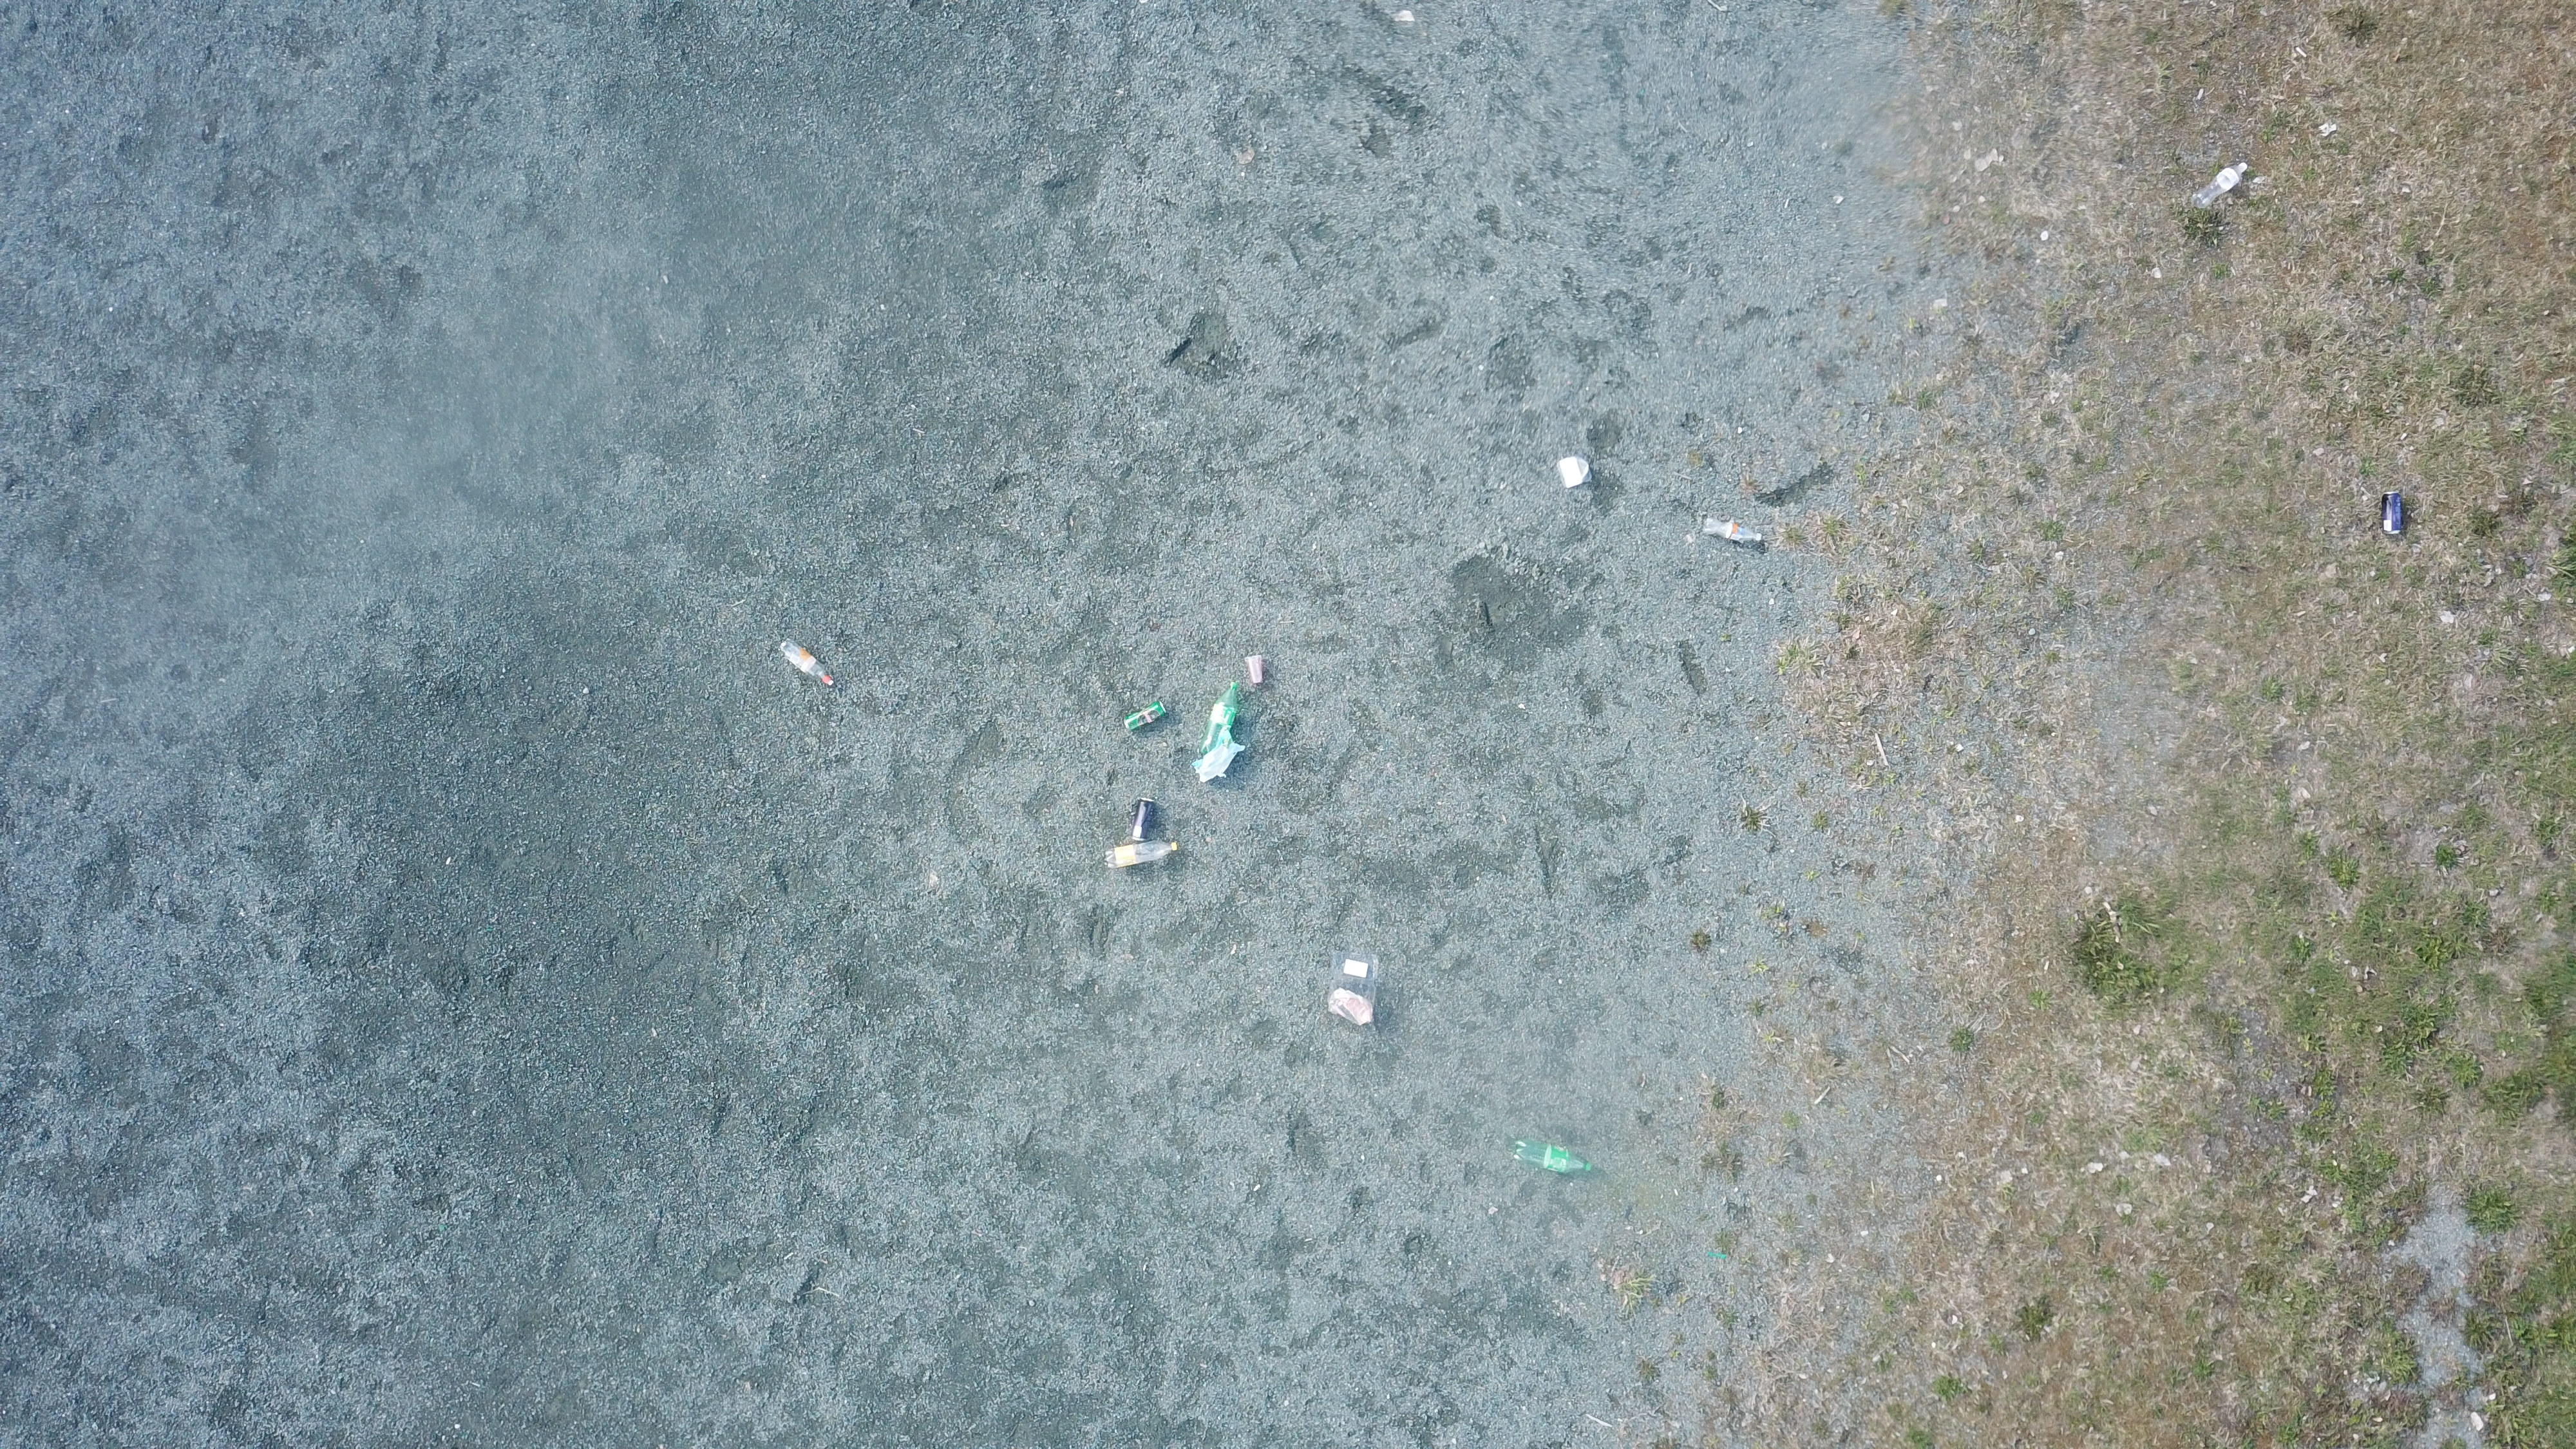Can: (1129, 796, 1161, 842), (1122, 702, 1164, 732), (2380, 490, 2406, 536)
Plastic: (1330, 950, 1378, 1024), (1191, 734, 1246, 786), (1557, 453, 1596, 488), (1246, 653, 1263, 685)
PlasticBottle: (1513, 1136, 1599, 1177), (1200, 679, 1238, 754), (780, 639, 835, 688), (2190, 163, 2249, 209), (1106, 842, 1178, 870), (1700, 517, 1766, 545)
